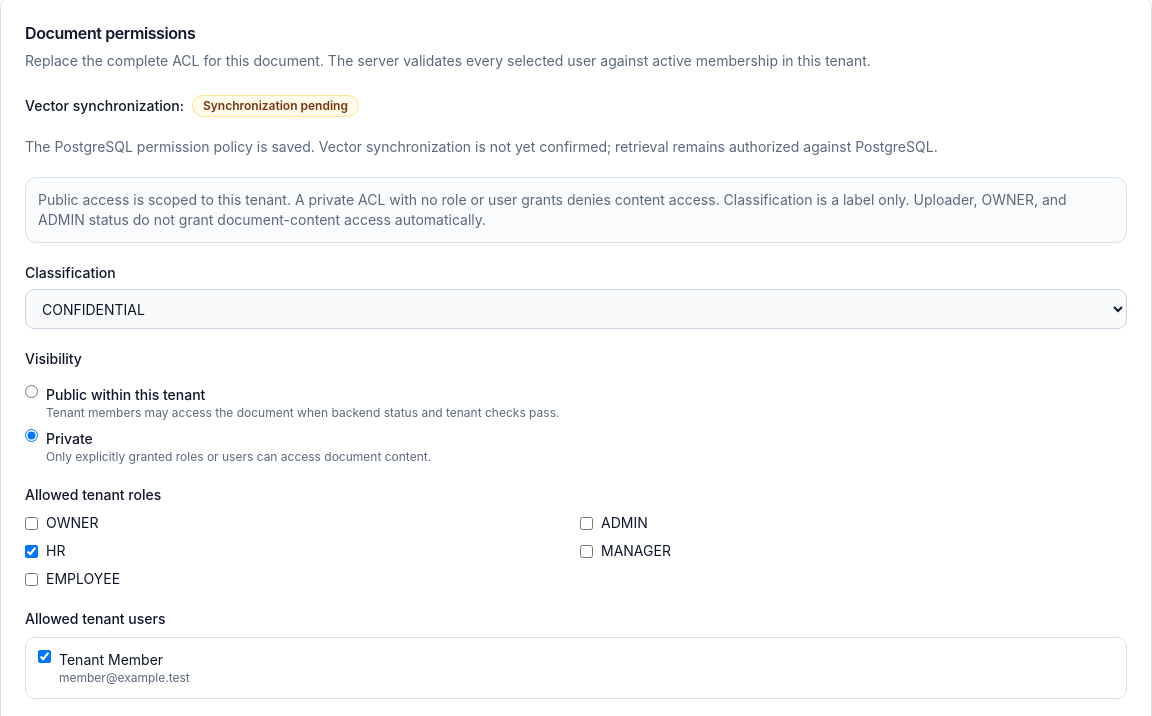
Test: permission editor › reconciles an ambiguous PUT 503 without retrying the PUT and shows the authoritative ACL
Select "INTERNAL" in the dropdown labelled "Classification" at (576, 309), box [25,289,1127,329]
(page scrolled)
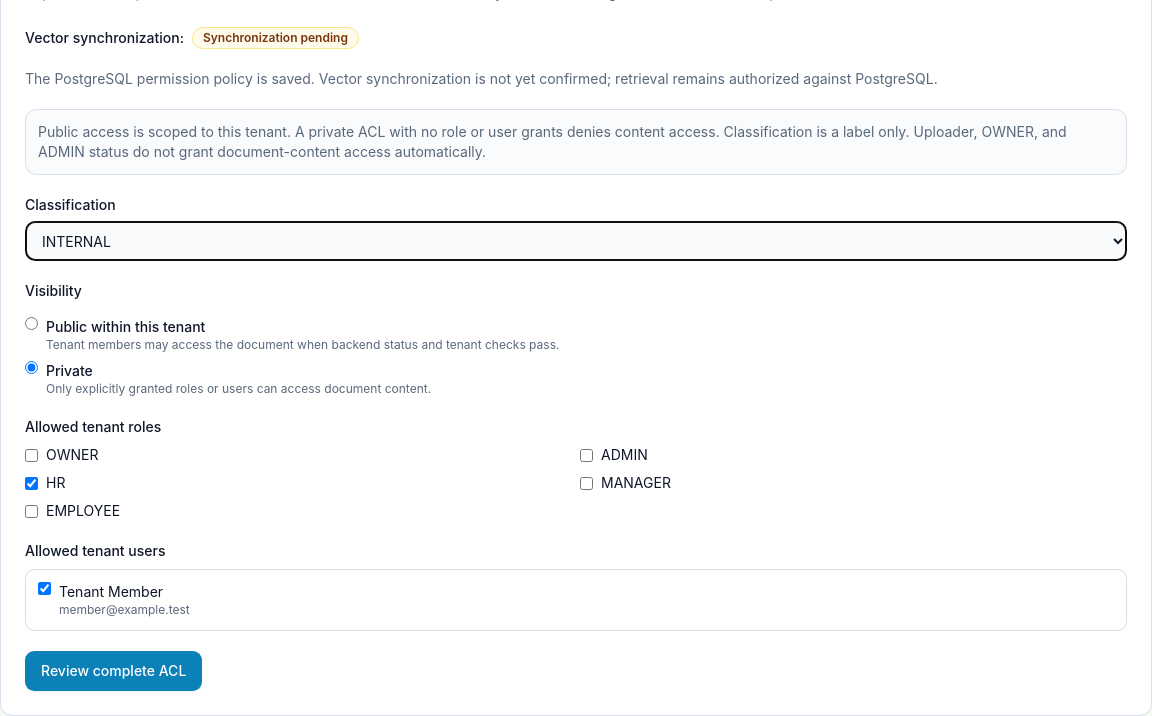
Click the button "Review complete ACL".
click(114, 671)  # box [25,651,202,691]
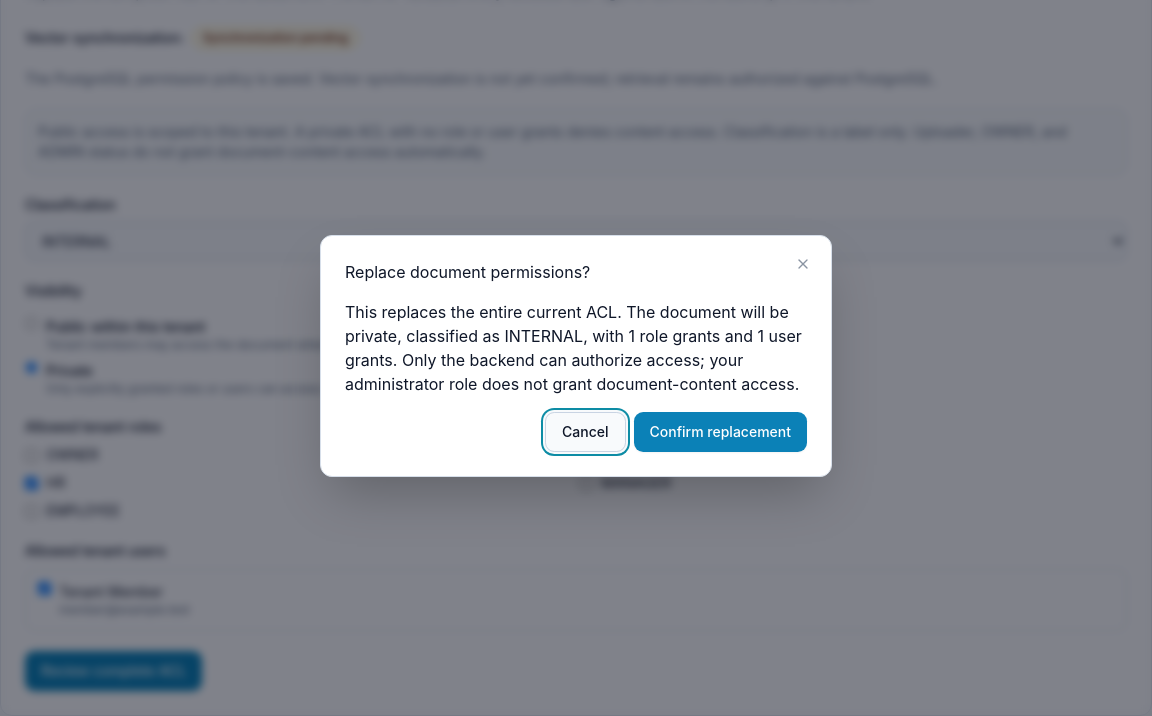
Click the button "Confirm replacement".
click(720, 432)  # box [634,412,807,452]
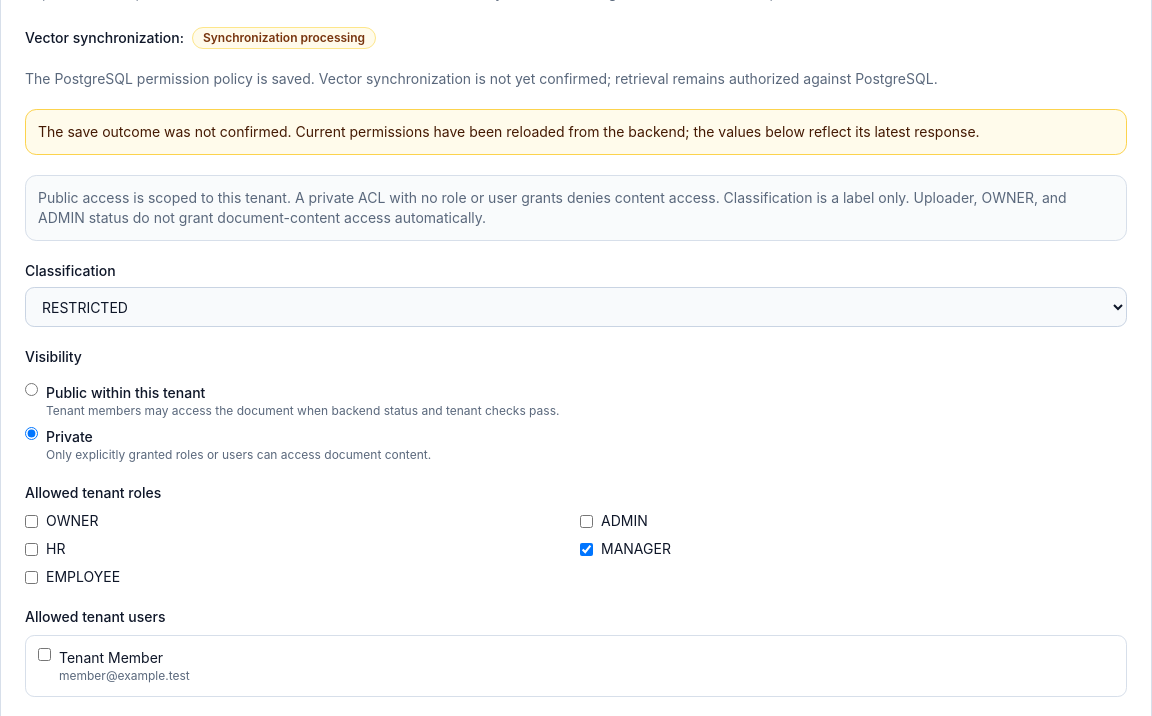
Now the text "save outcome was not confirmed" is shown, box [38,123,980,140]
Now the text "Synchronization processing" is shown, box [192,27,376,49]
Now the checkbox labelled "MANAGER" is checked, box [580,542,593,556]
